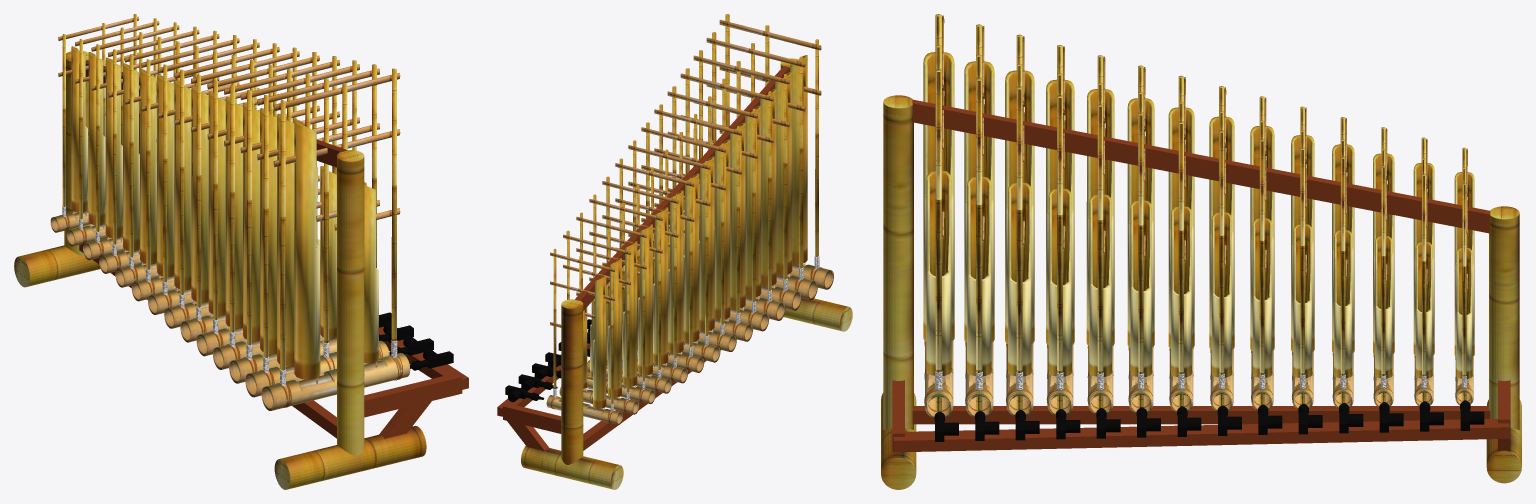
File: angklung.glb
The picture shows the model from 3 angles, left to right: view 1: azimuth 30°, elevation 25°; view 2: azimuth 150°, elevation 25°; view 3: azimuth 270°, elevation 25°; orthographic projection. The views are drawn at different scales.
Visible parts, largest first — view 1: G-Object.009, G-Object.018, G-Object.001, Cylinder.001, G-Object.002, G-Object.003, G-Object.004, G-Object.005, G-Object.006, G-Object.007, G-Object.008, G-Object.011 (+11 smaller); view 2: G-Object.018, G-Object.009, G-Object.002, G-Object.001, G-Object.003, G-Object.004, G-Object.005, G-Object.006, G-Object.007, G-Object.008, G-Object.012, G-Object.010 (+8 smaller); view 3: Cube.003, Cube.001, G-Object.009, G-Object.018, G-Object.001, Cylinder.001, G-Object.002, G-Object.003, G-Object.004, G-Object.005, G-Object.006, G-Object.007 (+9 smaller).
Part boxes in pixels (x1=…): G-Object.009: x1=261, y1=68, x2=410, y2=410; G-Object.018: x1=245, y1=64, x2=389, y2=397; G-Object.001: x1=229, y1=60, x2=359, y2=383; Cylinder.001: x1=337, y1=150, x2=364, y2=455; G-Object.002: x1=212, y1=56, x2=339, y2=369; G-Object.003: x1=196, y1=52, x2=319, y2=356; G-Object.004: x1=180, y1=47, x2=299, y2=342; G-Object.005: x1=164, y1=43, x2=279, y2=328; G-Object.006: x1=148, y1=39, x2=259, y2=314; G-Object.007: x1=131, y1=35, x2=239, y2=301; G-Object.008: x1=115, y1=30, x2=219, y2=287; G-Object.011: x1=83, y1=22, x2=179, y2=260; G-Object.018: x1=706, y1=32, x2=817, y2=299; G-Object.009: x1=719, y1=14, x2=833, y2=289; G-Object.002: x1=680, y1=68, x2=785, y2=320; G-Object.001: x1=693, y1=50, x2=801, y2=310; G-Object.003: x1=667, y1=86, x2=769, y2=331; G-Object.004: x1=654, y1=104, x2=752, y2=341; G-Object.005: x1=641, y1=122, x2=736, y2=351; G-Object.006: x1=628, y1=140, x2=720, y2=362; G-Object.007: x1=615, y1=158, x2=704, y2=372; G-Object.008: x1=602, y1=176, x2=687, y2=383; G-Object.012: x1=546, y1=249, x2=622, y2=424; G-Object.010: x1=587, y1=194, x2=671, y2=393; Cube.003: x1=892, y1=380, x2=1510, y2=452; Cube.001: x1=912, y1=99, x2=1490, y2=233; G-Object.009: x1=923, y1=14, x2=954, y2=418; G-Object.018: x1=964, y1=24, x2=994, y2=417; G-Object.001: x1=1005, y1=34, x2=1034, y2=416; Cylinder.001: x1=883, y1=95, x2=913, y2=429; G-Object.002: x1=1046, y1=45, x2=1074, y2=415; G-Object.003: x1=1086, y1=55, x2=1114, y2=414; G-Object.004: x1=1127, y1=65, x2=1154, y2=413; G-Object.005: x1=1168, y1=75, x2=1194, y2=412; G-Object.006: x1=1209, y1=86, x2=1234, y2=411; G-Object.007: x1=1250, y1=96, x2=1274, y2=410.
Bounding box in the file's own units: 0.5947 × 1.13 × 1.59.
Materials: 6 (2 with a texture image).
